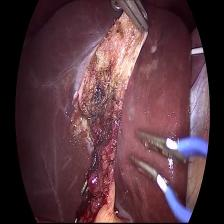Bipolar: (128, 123, 215, 224)
Grasper: (116, 0, 153, 36)
